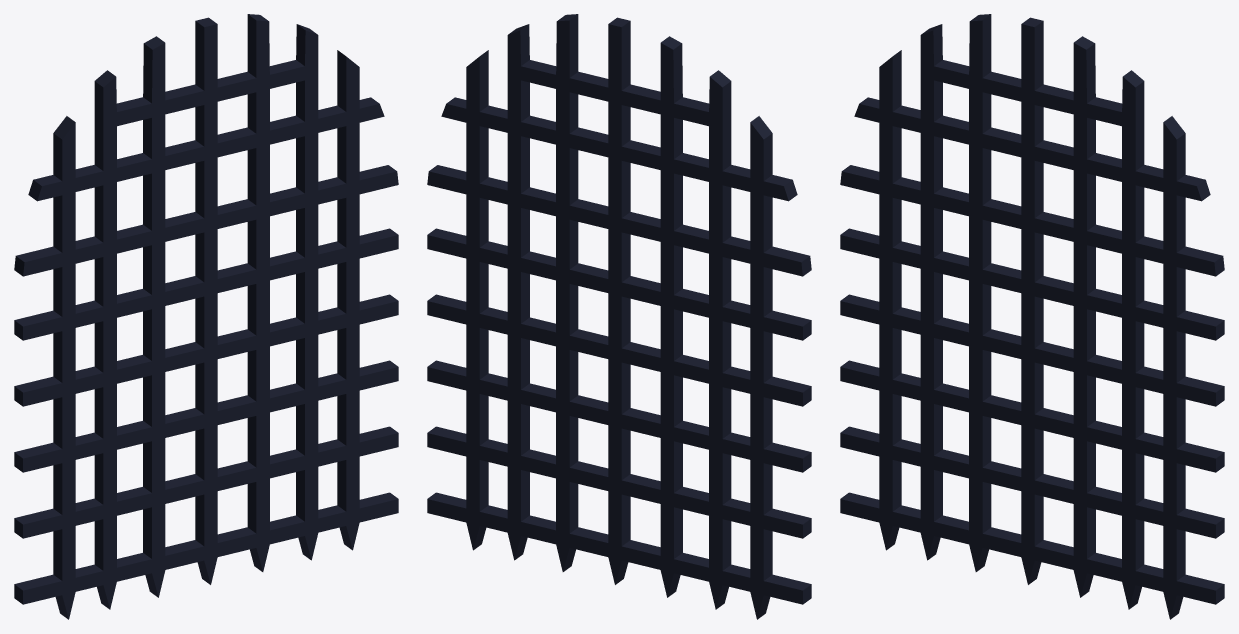
File: CastleSteelGate.fbx
3 renders of one model, left to right at view 1: azimuth 30°, elevation 25°; view 2: azimuth 150°, elevation 25°; view 3: azimuth 330°, elevation 25°, orthographic.
Parts seen in each view (by area): view 1: CastleSteelGate; view 2: CastleSteelGate; view 3: CastleSteelGate.
Part boxes in pixels (box(x1,y1,x2,y2)): CastleSteelGate: box(14, 14, 398, 619); CastleSteelGate: box(427, 14, 811, 619); CastleSteelGate: box(840, 14, 1224, 619).
Size of the model in its own units: 207 by 295 by 8.46.
